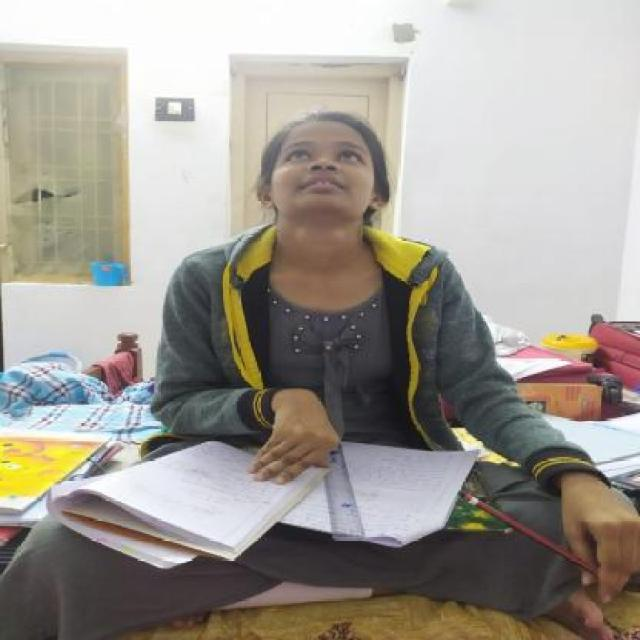good: (39, 90, 627, 574)
